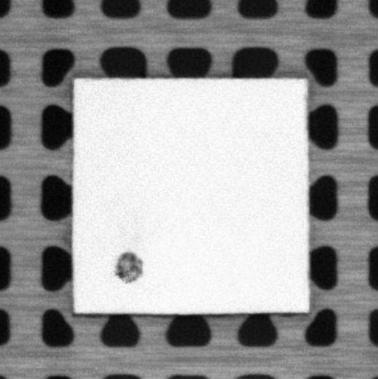DIE_INK: (115, 250, 145, 283)
